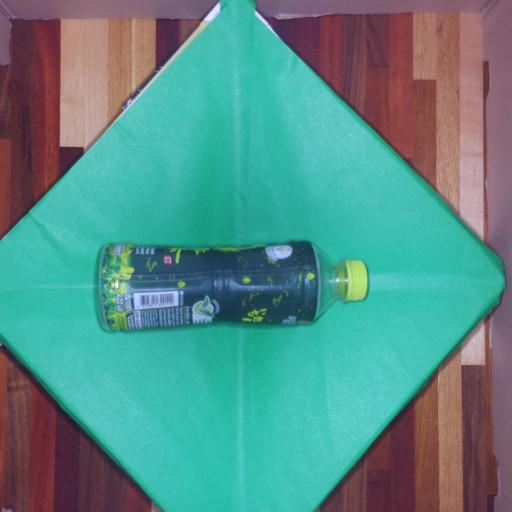bottle: (94, 237, 370, 329)
